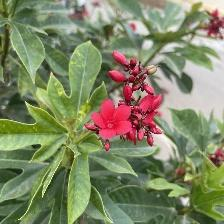jatropha: (95, 99, 135, 139)
